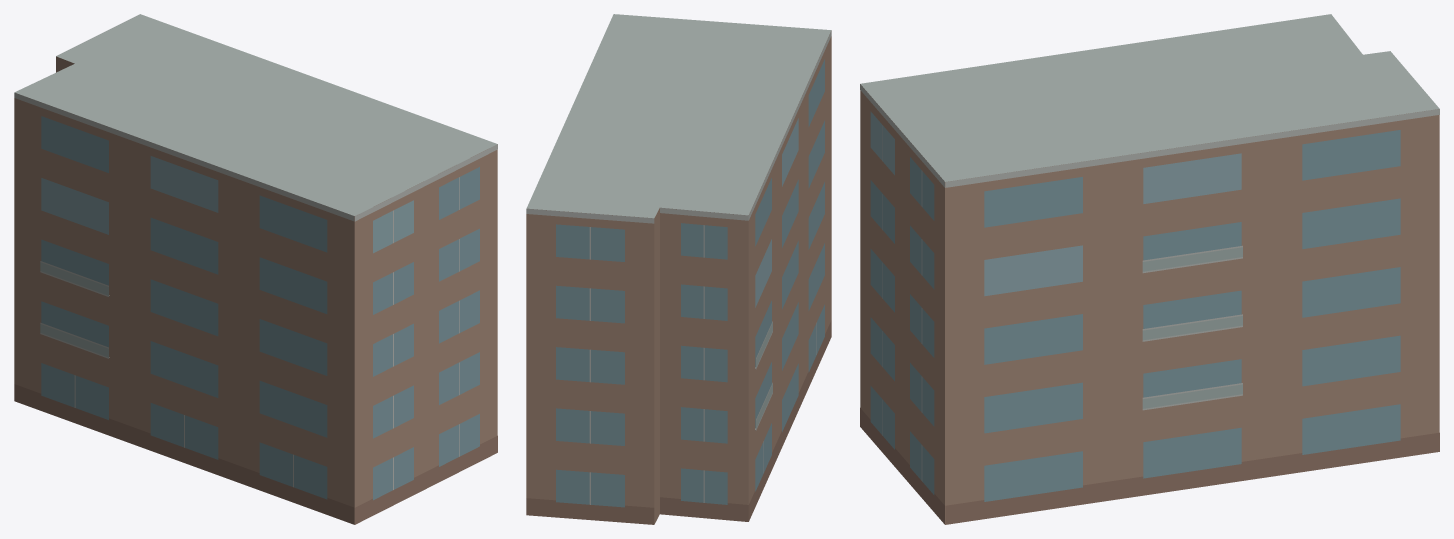
Rendered from survey-upis-32585695.glb.
The picture shows the model from 3 angles, left to right: view 1: azimuth 30°, elevation 25°; view 2: azimuth 150°, elevation 25°; view 3: azimuth 270°, elevation 25°; orthographic projection. The views are drawn at different scales.
Visible parts, largest first — view 1: survey-upis-32585695.tmp; view 2: survey-upis-32585695.tmp; view 3: survey-upis-32585695.tmp.
Part boxes in pixels (left/top/right/bottom): survey-upis-32585695.tmp: left=14, top=14, right=497, bottom=524; survey-upis-32585695.tmp: left=526, top=14, right=831, bottom=524; survey-upis-32585695.tmp: left=860, top=14, right=1439, bottom=524.
Bounding box in the file's own units: 14.61 × 13.9 × 21.3.
